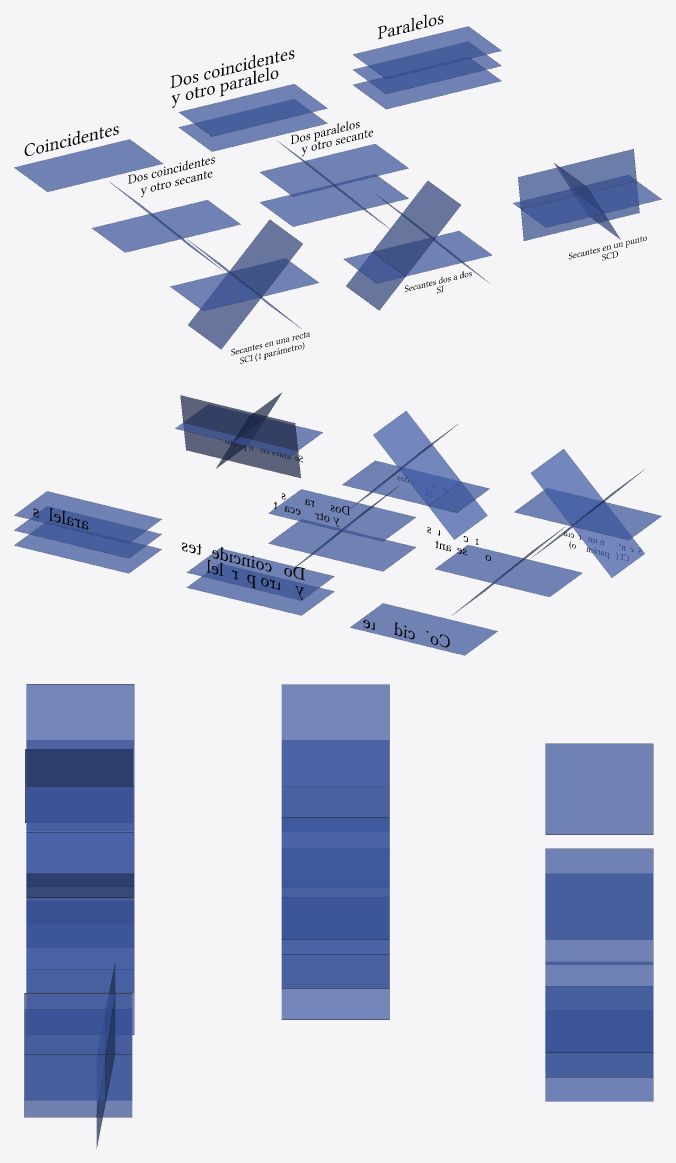
3 renders of one model, top to bottom at view 1: azimuth 30°, elevation 25°; view 2: azimuth 150°, elevation 25°; view 3: azimuth 270°, elevation 25°, orthographic. The views are drawn at different scales.
Visible parts, largest first — view 1: Plano.018, Plano.014, Plano.011, Plano.002, Plano.006, Plano.005, Plano.009, Plano, Plano.016, Plano.008, Plano.001, Plano.004 (+6 smaller); view 2: Plano.018, Plano.014, Plano.011, Plano.006, Plano.009, Plano.016, Plano.008, Plano, Plano.005, Plano.013, Plano.002, Plano.004 (+5 smaller); view 3: Plano.010, Plano.012, Plano.015, Plano.007, Plano.019, Plano.002, Plano.005, Plano, Plano.009, Plano.004, Plano.001, Plano.006 (+8 smaller).
Part boxes in pixels (x1=…): Plano.018: x1=518, y1=149, x2=639, y2=240; Plano.014: x1=346, y1=181, x2=460, y2=310; Plano.011: x1=188, y1=219, x2=302, y2=349; Plano.002: x1=179, y1=84, x2=327, y2=136; Plano.006: x1=92, y1=200, x2=240, y2=252; Plano.005: x1=353, y1=26, x2=501, y2=78; Plano.009: x1=260, y1=144, x2=408, y2=196; Plano: x1=14, y1=139, x2=162, y2=191; Plano.016: x1=343, y1=231, x2=491, y2=283; Plano.008: x1=260, y1=174, x2=408, y2=226; Plano.001: x1=179, y1=99, x2=327, y2=151; Plano.004: x1=353, y1=42, x2=501, y2=93; Plano.018: x1=180, y1=395, x2=300, y2=477; Plano.014: x1=373, y1=411, x2=487, y2=539; Plano.011: x1=531, y1=449, x2=644, y2=577; Plano.006: x1=435, y1=545, x2=582, y2=596; Plano.009: x1=268, y1=489, x2=415, y2=541; Plano.016: x1=342, y1=460, x2=489, y2=512; Plano.008: x1=268, y1=520, x2=415, y2=571; Plano: x1=350, y1=603, x2=497, y2=655; Plano.005: x1=14, y1=491, x2=161, y2=543; Plano.013: x1=514, y1=488, x2=661, y2=540; Plano.002: x1=187, y1=548, x2=334, y2=600; Plano.004: x1=14, y1=507, x2=161, y2=558; Plano.010: x1=281, y1=817, x2=389, y2=1019; Plano.012: x1=26, y1=684, x2=134, y2=872; Plano.015: x1=26, y1=832, x2=134, y2=1034; Plano.007: x1=281, y1=684, x2=389, y2=847; Plano.019: x1=24, y1=993, x2=132, y2=1117; Plano.002: x1=545, y1=848, x2=653, y2=939; Plano.005: x1=545, y1=961, x2=653, y2=1052; Plano: x1=545, y1=743, x2=653, y2=834; Plano.009: x1=281, y1=848, x2=389, y2=939; Plano.004: x1=545, y1=986, x2=653, y2=1077; Plano.001: x1=545, y1=874, x2=653, y2=964; Plano.006: x1=281, y1=740, x2=389, y2=830.
Bounding box in the file's own units: 15.88 × 3.71 × 12.02.
